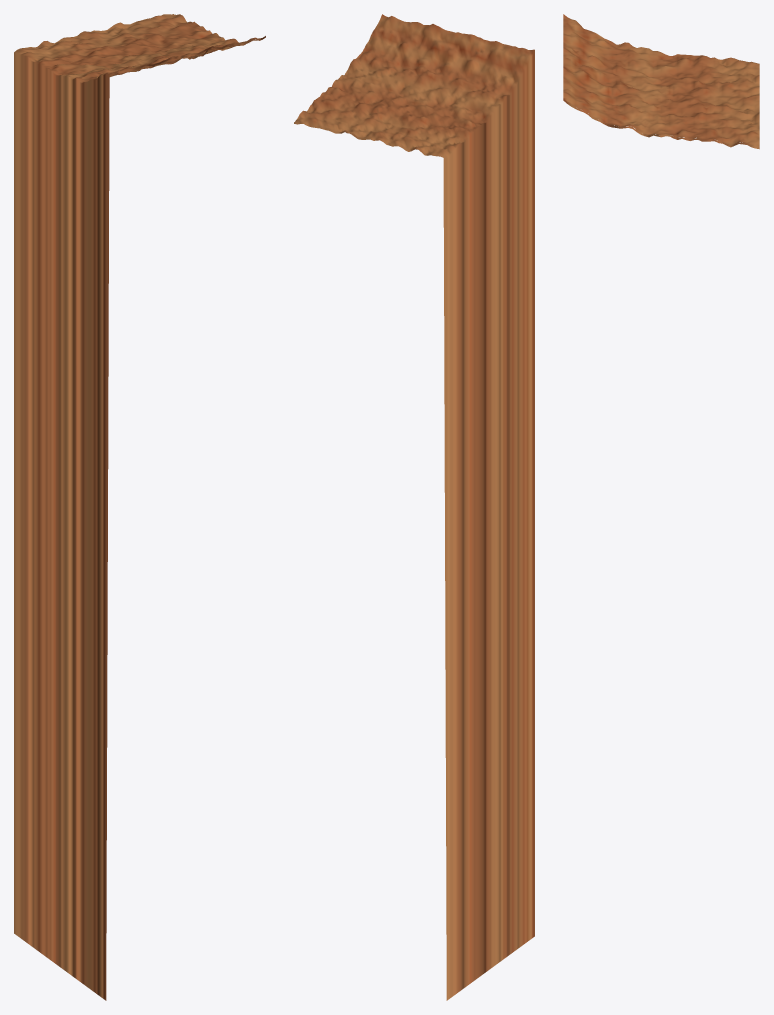
The model's file is terrain-118.glb.
3 views of the same model, side by side, from view 1: azimuth 30°, elevation 25°; view 2: azimuth 150°, elevation 25°; view 3: azimuth 270°, elevation 25° (orthographic). The views are drawn at different scales.
Visible parts, largest first — view 1: terrain-118; view 2: terrain-118; view 3: terrain-118.
Part boxes in pixels (x1=…): terrain-118: x1=14, y1=14, x2=265, y2=1000; terrain-118: x1=294, y1=14, x2=534, y2=1000; terrain-118: x1=563, y1=14, x2=759, y2=149.
Size of the model in its own units: 384 by 2135 by 384.
